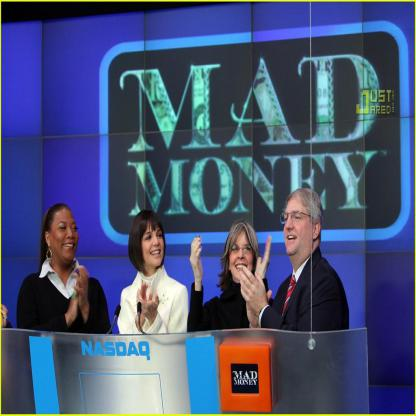face: (285, 199, 307, 256), (57, 211, 81, 262), (230, 232, 255, 280), (144, 222, 166, 267)
